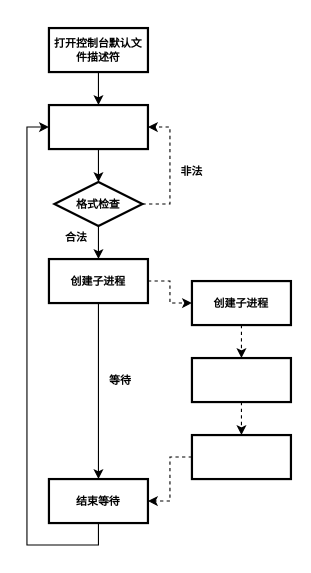
The diagram is 311 pixels wide and 573 high, and some of its shapes have lost their labels. The shapes that lost their labels are listed below. From the top down, each one's centre as x and y in pixels, then its label:
At pixel 97 126: "读入命令".
At pixel 241 379: "执行命令".
At pixel 241 456: "执行结束".
